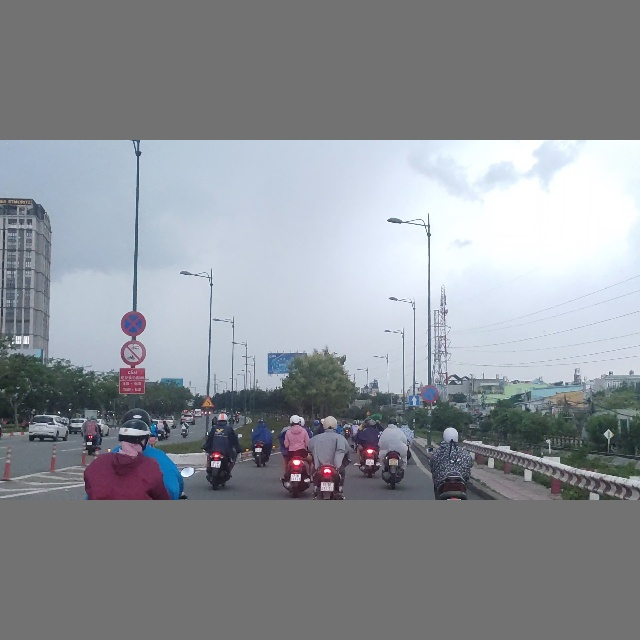I.407a: (409, 395, 420, 406)
P.111: (121, 340, 146, 366)
P.130: (120, 310, 146, 336)
P.131a: (421, 385, 439, 403)
W.201a: (201, 395, 215, 407)
